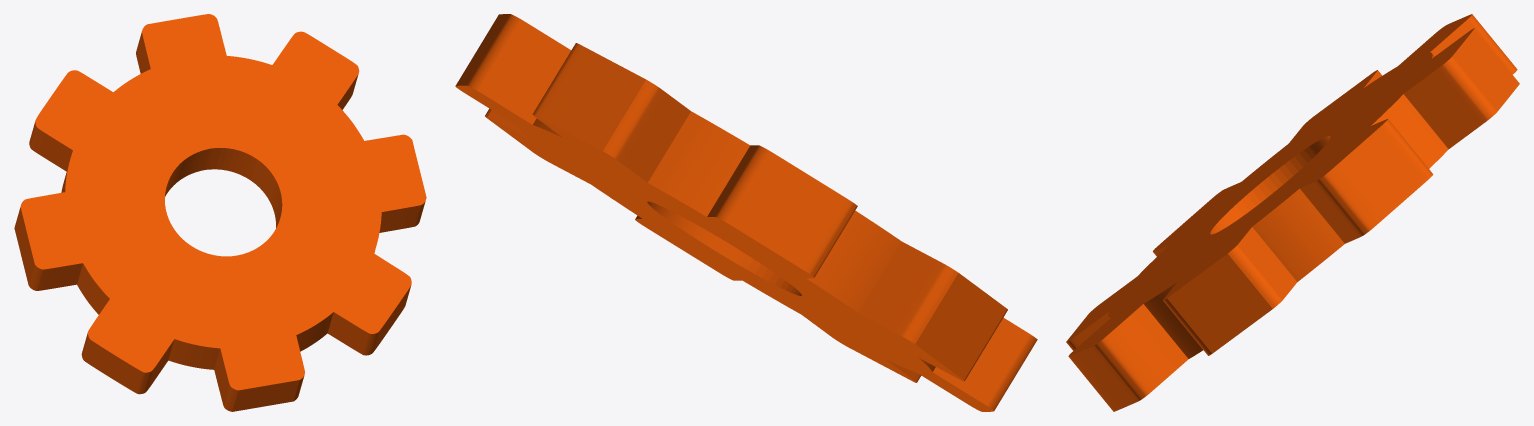
The model's file is shesterenka.glb.
The picture shows the model from 3 angles, left to right: view 1: azimuth 30°, elevation 25°; view 2: azimuth 150°, elevation 25°; view 3: azimuth 270°, elevation 25°; orthographic projection. The views are drawn at different scales.
Visible parts, largest first — view 1: Curve; view 2: Curve; view 3: Curve.
Boxes of the visible parts, <box> form: Curve: <box>14,14,426,411</box>; Curve: <box>455,14,1037,411</box>; Curve: <box>1066,14,1519,411</box>.
Bounding box in the file's own units: 0.1617 × 0.1239 × 0.1362.
